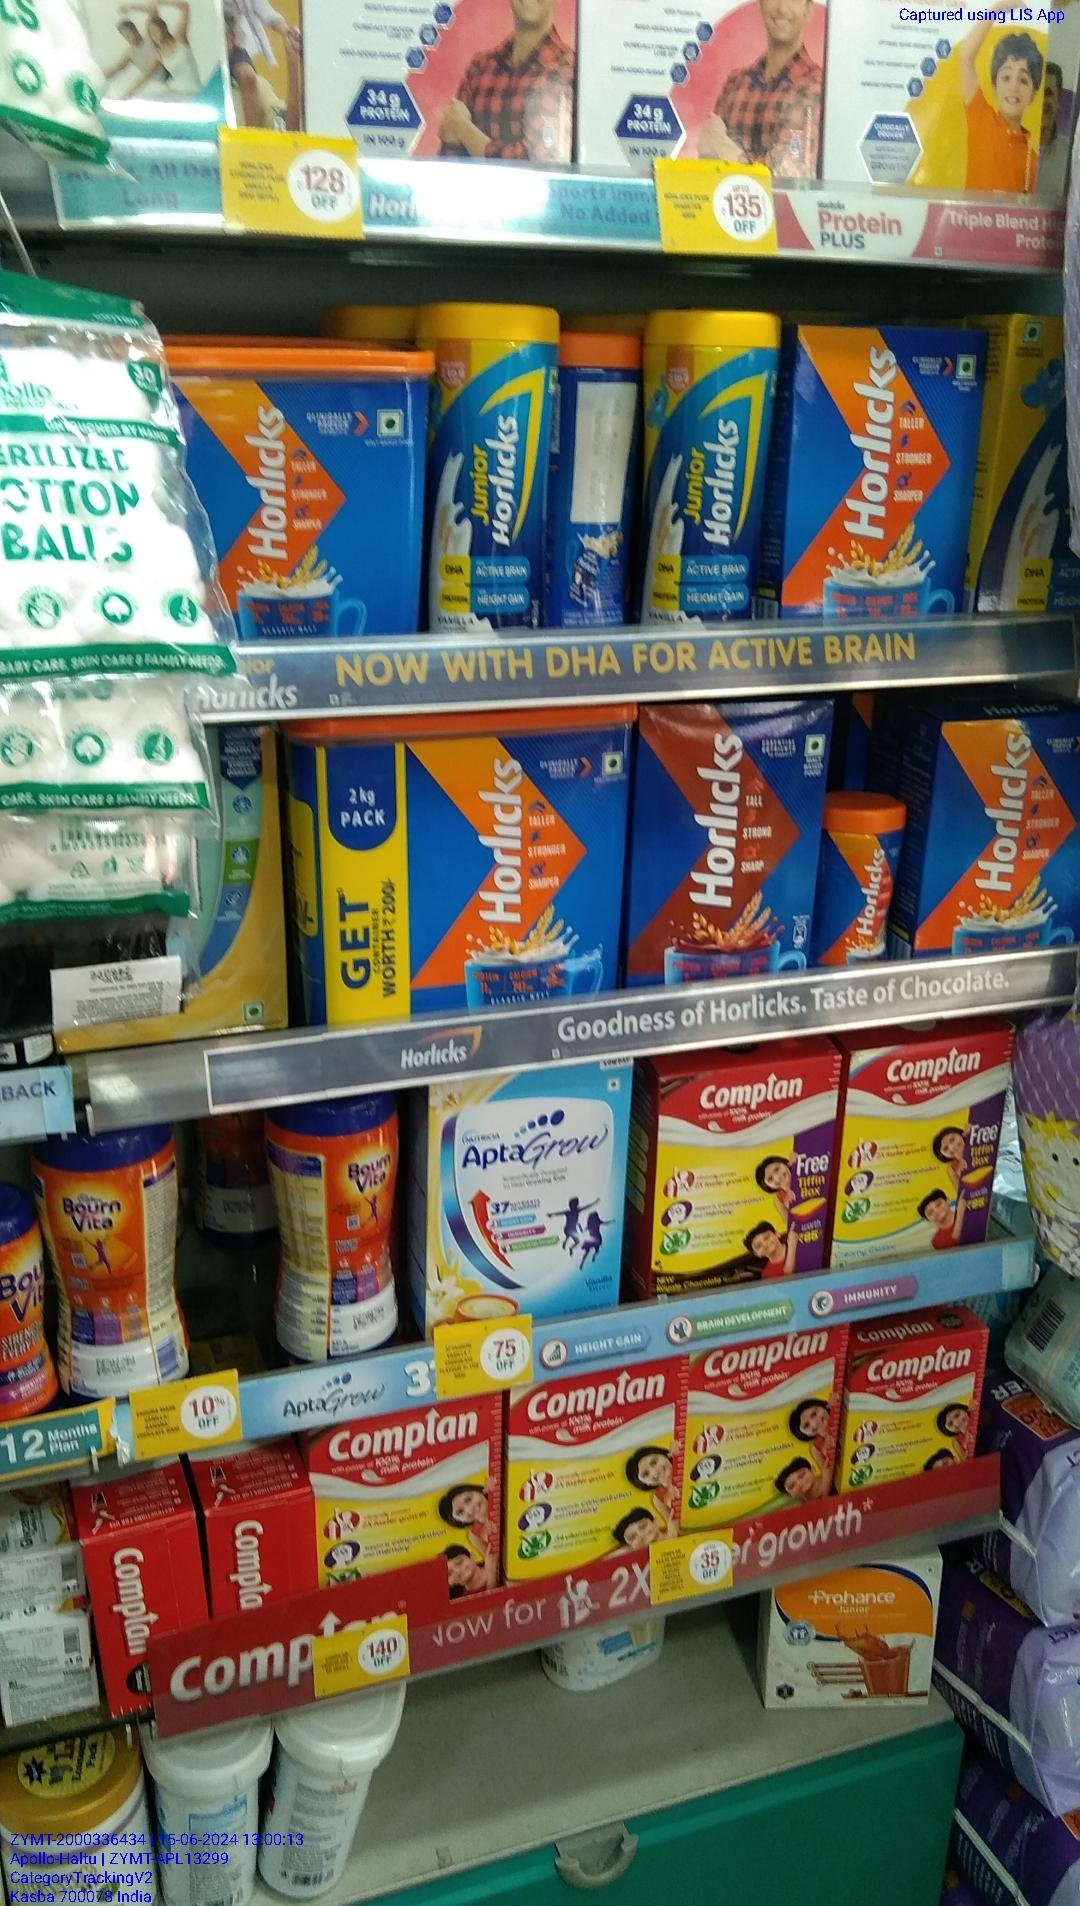COMPLAN_CHOCOLATE_200_GMS_PACK: (846, 1351, 978, 1469)
COMPLAN_CHOCOLATE_500_GMS_PACK: (647, 1077, 830, 1279)
COMPLAN_CREAMY_CLASSIC_500_G_PACK: (839, 1051, 994, 1248)
COMPLAN_KESAR_BADAM_500_GMS_PACK: (505, 1384, 682, 1559)
COMPLAN_PISTA_BADAM_500_GMS_PACK: (687, 1340, 838, 1504)
HORLICKS_JUNIOR_VANILLA_500_GM_JAR: (428, 304, 547, 635), (639, 310, 765, 623)
HORLICK_CHOCOLATE_500_G_PACK: (632, 702, 809, 978)
HORLICK_CLASSIC_MALT_200_G_JAR: (818, 796, 898, 956)
HORLICK_CLASSIC_MALT_500_G_PACK: (796, 327, 963, 617), (923, 724, 1080, 943)
HORLICK_MALT_1_KG_CONTAINER: (301, 713, 623, 1001), (215, 353, 422, 639)
